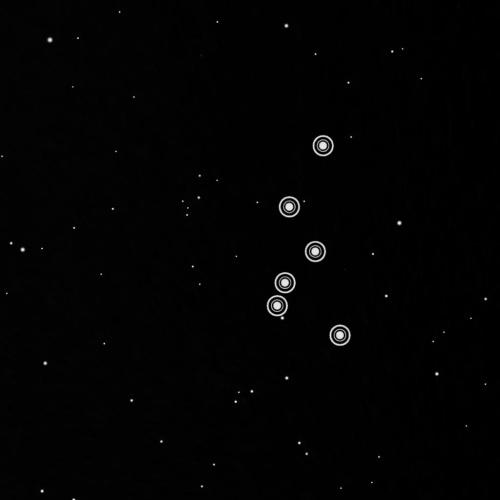cassiopeia: (260, 131, 358, 355)
